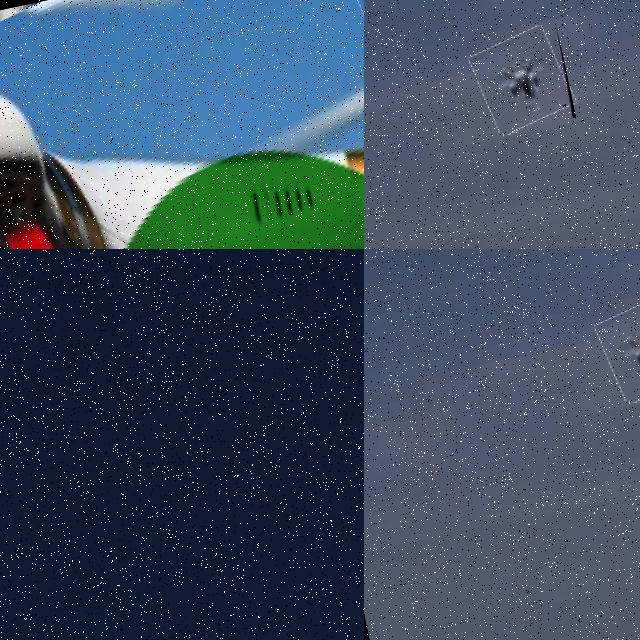drone: (0, 0, 364, 249), (470, 25, 576, 135), (595, 293, 640, 403)
